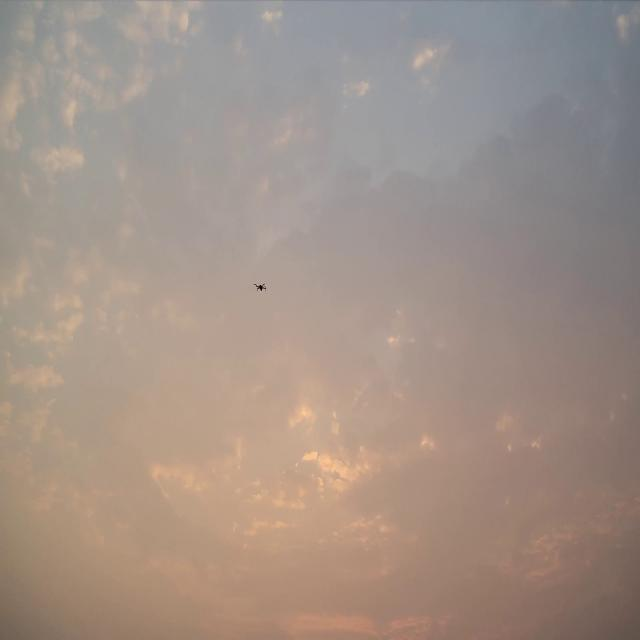UAV: (253, 283, 267, 292)
